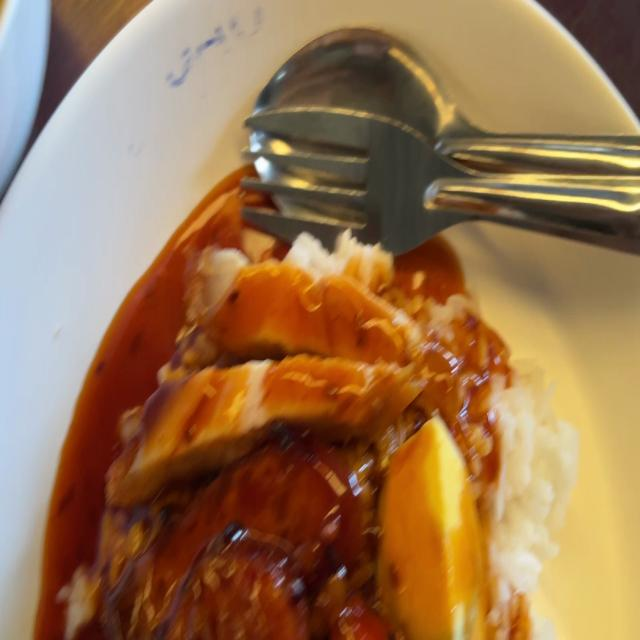boiled_egg: (376, 413, 487, 640)
chainese_sausage: (106, 468, 354, 640)
crispy_pork: (111, 263, 427, 445)
red_pork_and_crispy_pork: (73, 227, 588, 640)
